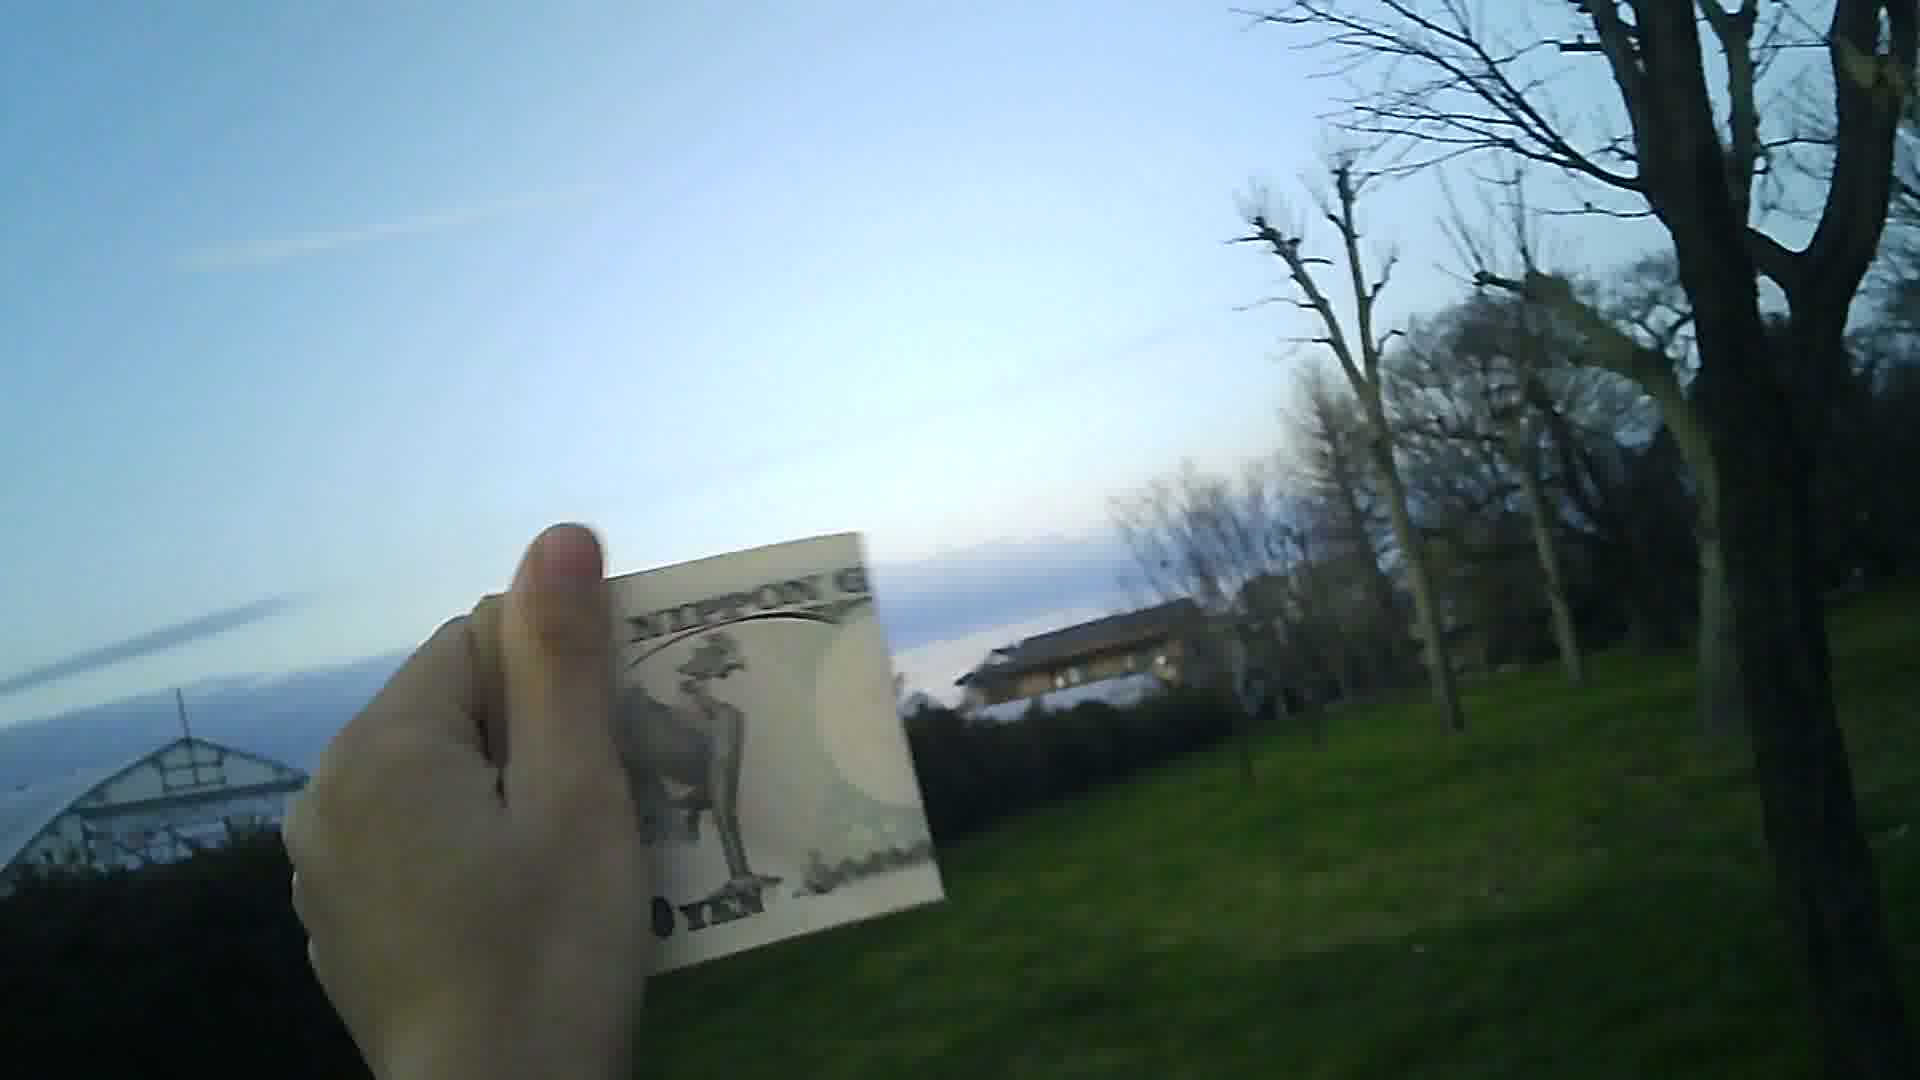10,000 Yen: (484, 497, 953, 945)
